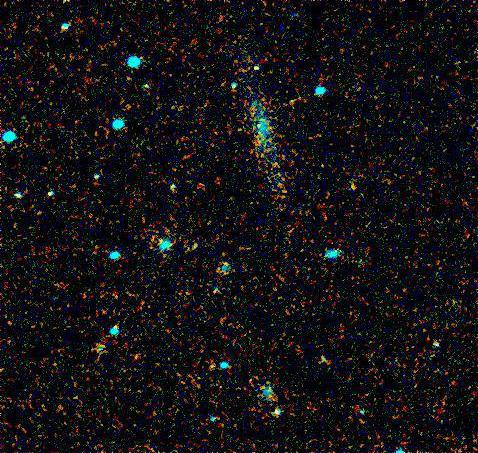star: (243, 52, 273, 82)
